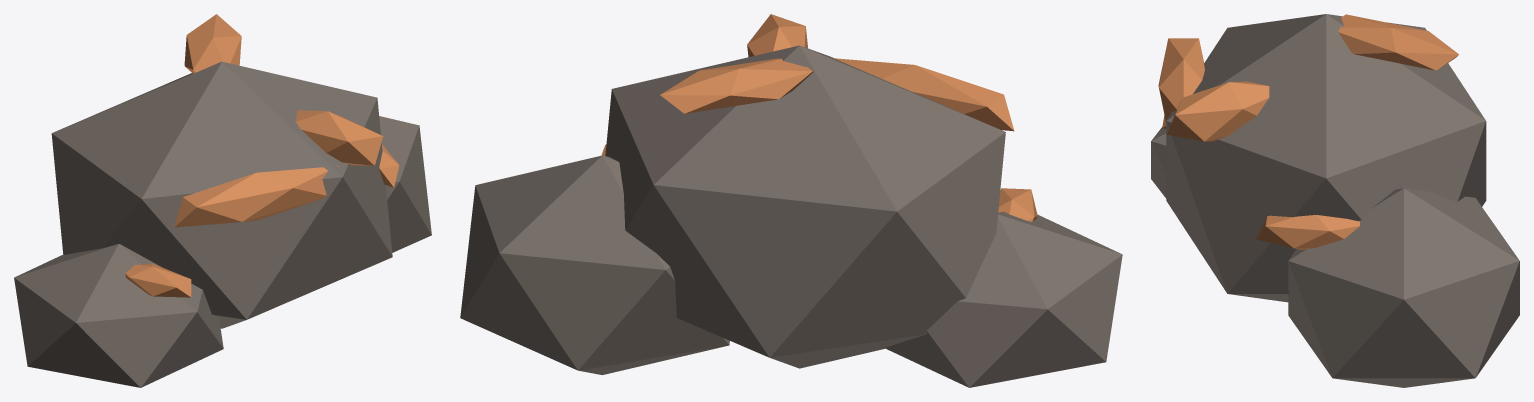
Rendered from iron.glb.
The picture shows the model from 3 angles, left to right: view 1: azimuth 30°, elevation 25°; view 2: azimuth 150°, elevation 25°; view 3: azimuth 270°, elevation 25°; orthographic projection. The views are drawn at different scales.
Parts seen in each view (by area): view 1: Erzgestein0, Erzgestein2, Eisenader0, Erzgestein1, Eisenader1, Eisenader2, Eisenader4, Eisenader3; view 2: Erzgestein0, Erzgestein1, Erzgestein2, Eisenader2, Eisenader0, Eisenader1, Eisenader4; view 3: Erzgestein0, Erzgestein1, Eisenader1, Eisenader2, Eisenader3, Eisenader0, Erzgestein2.
Part boxes in pixels (<box>): Erzgestein0: <box>51,61,392,328</box>; Erzgestein2: <box>14,244,223,387</box>; Eisenader0: <box>174,166,338,227</box>; Erzgestein1: <box>379,116,431,252</box>; Eisenader1: <box>295,110,383,165</box>; Eisenader2: <box>184,14,241,73</box>; Eisenader4: <box>125,263,191,297</box>; Eisenader3: <box>379,144,399,187</box>; Erzgestein0: <box>605,45,1005,368</box>; Erzgestein1: <box>460,155,729,374</box>; Erzgestein2: <box>884,211,1122,387</box>; Eisenader2: <box>660,58,813,113</box>; Eisenader0: <box>834,58,1014,131</box>; Eisenader1: <box>747,14,807,57</box>; Eisenader4: <box>998,188,1037,221</box>; Erzgestein0: <box>1166,14,1486,302</box>; Erzgestein1: <box>1288,188,1519,387</box>; Eisenader1: <box>1167,81,1269,141</box>; Eisenader2: <box>1338,14,1458,70</box>; Eisenader3: <box>1255,215,1359,249</box>; Eisenader0: <box>1158,38,1204,122</box>; Erzgestein2: <box>1151,127,1166,198</box>.
Size of the model in its own units: 0.8946 by 0.52 by 0.5688.
